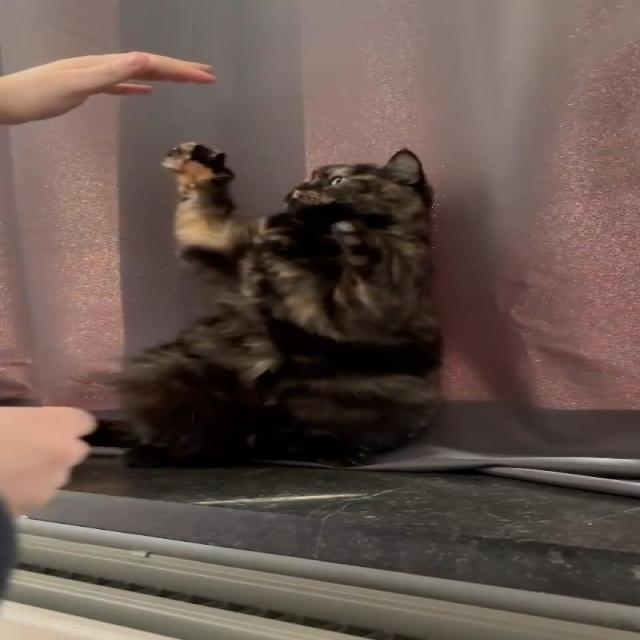authorized: (99, 141, 445, 469)
